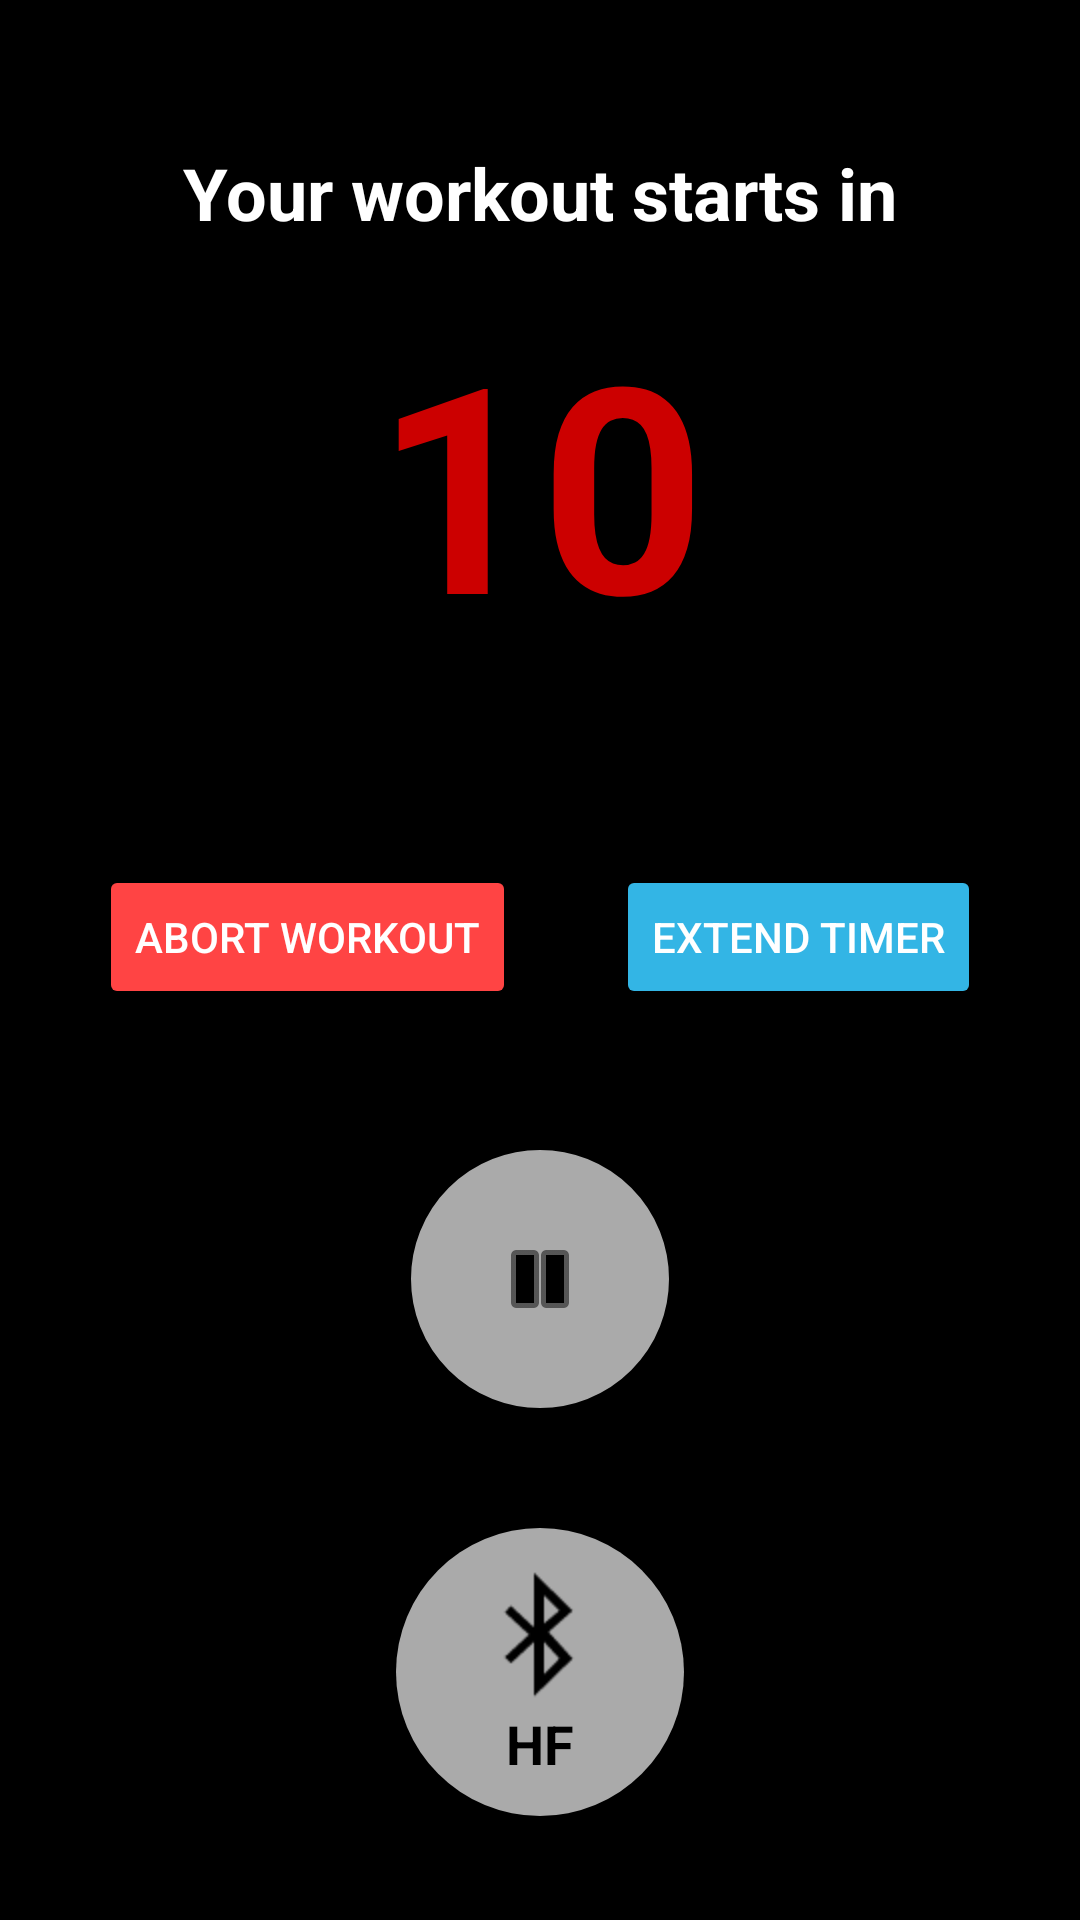

Where icons sit on this 1080x1920 app screen, as (x1, y1, x2, y2):
Pause/Play: (411, 1150, 669, 1408)
